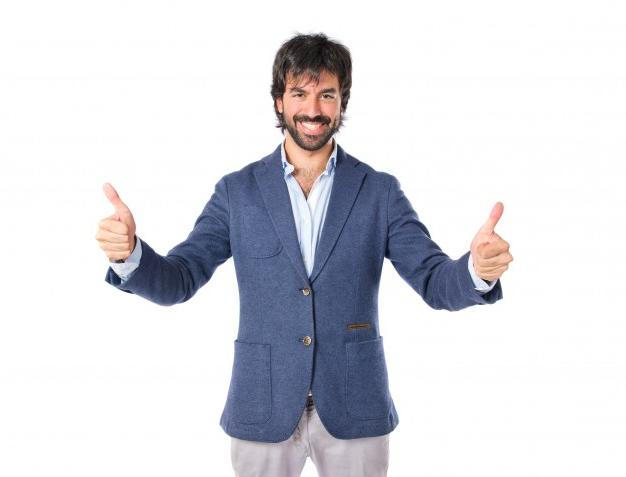thumbsup: (472, 202, 513, 281), (96, 183, 132, 260)
